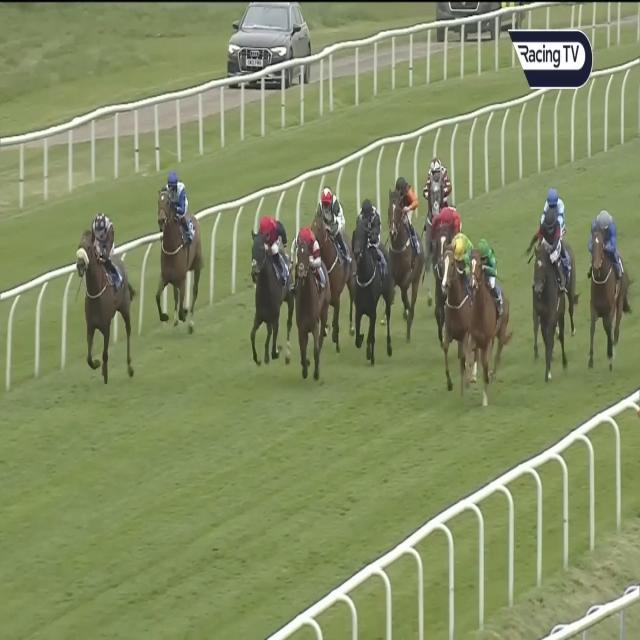horses-racing: (77, 211, 136, 383), (151, 172, 206, 332), (250, 209, 296, 370), (469, 237, 512, 396), (530, 209, 570, 375), (590, 204, 624, 361), (351, 198, 382, 358), (289, 227, 324, 363), (315, 187, 350, 315), (387, 175, 419, 312), (422, 156, 453, 267), (446, 230, 474, 348), (432, 198, 464, 288), (540, 183, 570, 244)
